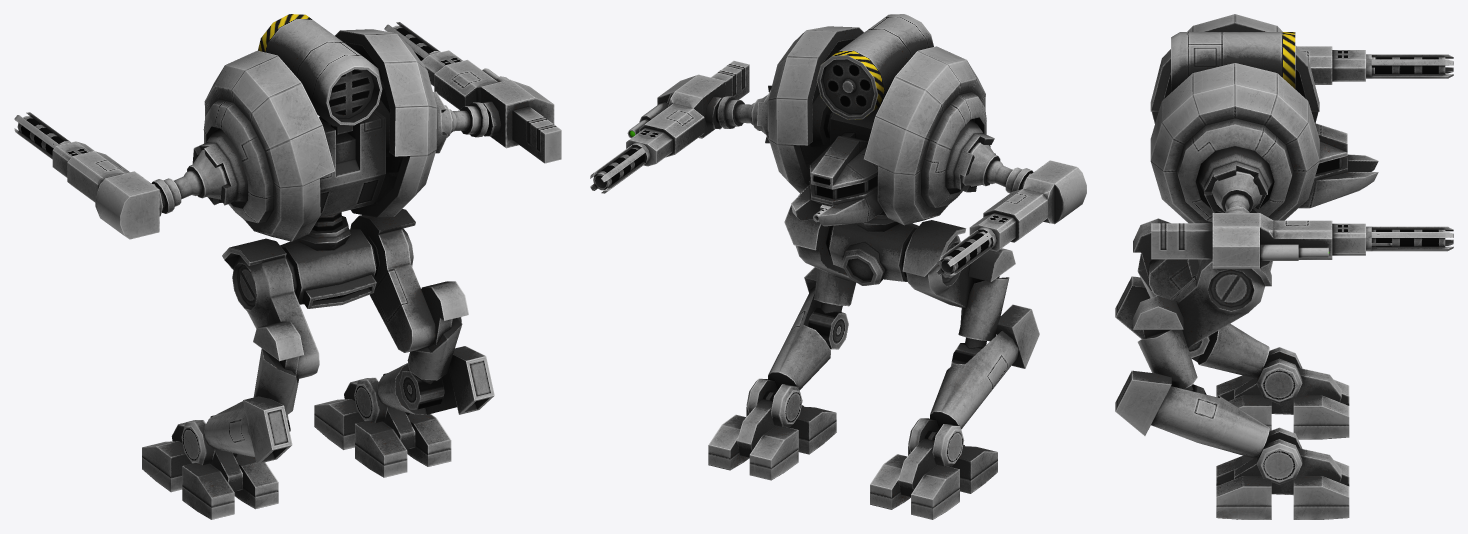
The model's file is Uziel.FBX.
3 views of the same model, side by side, from view 1: azimuth 30°, elevation 25°; view 2: azimuth 150°, elevation 25°; view 3: azimuth 270°, elevation 25° (orthographic). The views are drawn at different scales.
Visible parts, largest first — view 1: torso, rupperleg, lupperleg, launcher_3, pelvis, llowerleg, llowerarm PPC, rlowerleg, rlowerarm PPC, rbacktoes, lbacktoes, rlowerarm (+7 smaller); view 2: torso, lupperleg, llowerleg, launcher_3, rlowerarm PPC, rlowerleg, llowerarm PPC, pelvis, rupperleg, rfronttoes, lfronttoes, llowerarm (+7 smaller); view 3: torso, rlowerleg, rupperleg, rlowerarm, llowerleg, launcher_3, rlowerarm PPC, rbacktoes, lupperleg, rfronttoes, lfronttoes, llowerarm PPC (+5 smaller).
Boxes of the visible parts, x1,y1,x2,y2 form: torso: (192, 29, 447, 241); rupperleg: (350, 209, 468, 409); lupperleg: (222, 238, 319, 431); launcher_3: (258, 14, 382, 135); pelvis: (280, 212, 379, 308); llowerleg: (181, 396, 292, 464); llowerarm PPC: (14, 112, 163, 239); rlowerleg: (354, 346, 494, 422); rlowerarm PPC: (384, 22, 535, 147); rbacktoes: (355, 413, 451, 477); lbacktoes: (182, 454, 278, 519); rlowerarm: (465, 68, 561, 163); torso: (757, 26, 995, 226); lupperleg: (902, 220, 1015, 366); llowerleg: (908, 304, 1039, 466); launcher_3: (816, 14, 933, 119); rlowerarm PPC: (590, 74, 725, 193); rlowerleg: (746, 267, 842, 426); llowerarm PPC: (936, 160, 1086, 277); pelvis: (825, 212, 918, 285); rupperleg: (784, 194, 856, 349); rfronttoes: (708, 414, 798, 480); lfronttoes: (870, 454, 959, 519); llowerarm: (969, 169, 1063, 251); torso: (1150, 14, 1378, 223); rlowerleg: (1115, 370, 1302, 484); rupperleg: (1133, 259, 1271, 394); rlowerarm: (1151, 223, 1332, 268); llowerleg: (1115, 276, 1302, 404); launcher_3: (1171, 32, 1295, 92); rlowerarm PPC: (1212, 213, 1453, 255); rbacktoes: (1216, 455, 1271, 519); lupperleg: (1133, 218, 1209, 358); rfronttoes: (1293, 460, 1349, 519); lfronttoes: (1293, 379, 1349, 439); llowerarm PPC: (1366, 54, 1453, 78).
Bounding box in the file's own units: 57.92 × 57.17 × 40.87.
Materials: 1 (1 with a texture image).
